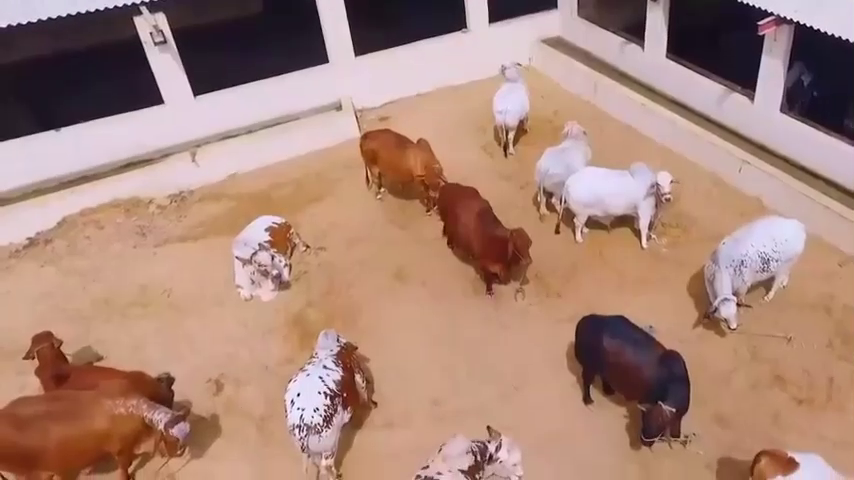bo: (560, 300, 689, 454), (11, 386, 197, 476), (280, 322, 380, 480), (421, 169, 535, 305), (16, 322, 182, 406), (701, 200, 806, 330), (570, 163, 684, 256), (349, 122, 443, 214), (395, 421, 534, 480), (222, 209, 306, 305), (532, 113, 598, 209), (484, 54, 543, 155), (741, 443, 844, 480)
